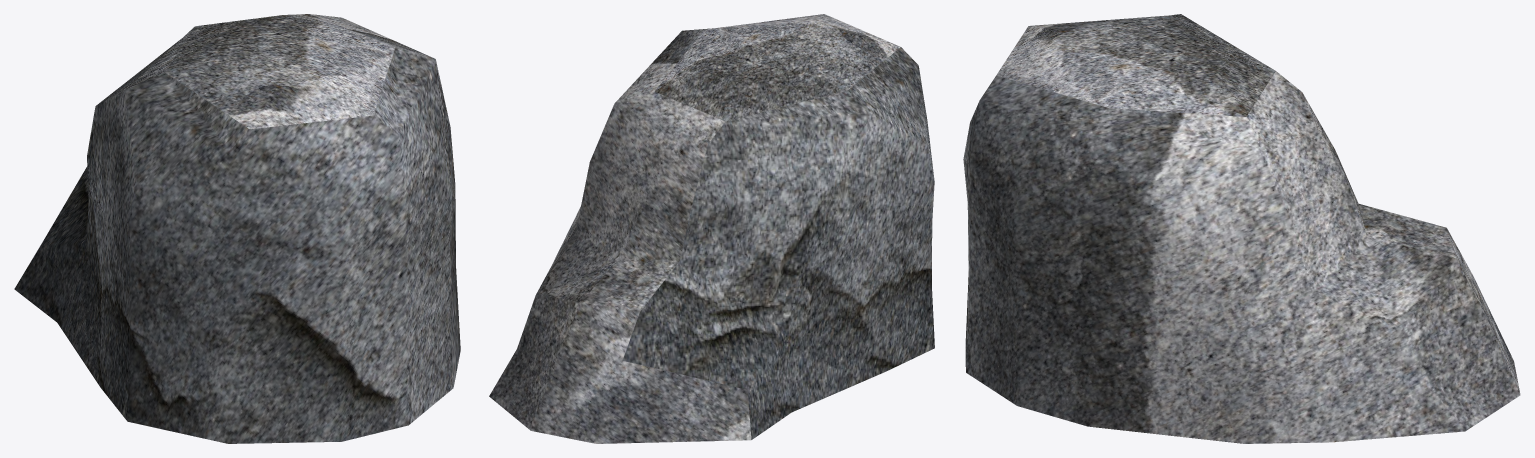
The model's file is Grosse_Roche_01.fbx.
3 views of the same model, side by side, from view 1: azimuth 30°, elevation 25°; view 2: azimuth 150°, elevation 25°; view 3: azimuth 270°, elevation 25° (orthographic). The views are drawn at different scales.
Visible parts, largest first — view 1: Grosse_Roche_High2; view 2: Grosse_Roche_High2; view 3: Grosse_Roche_High2.
Boxes of the visible parts, x1,y1,x2,y2 form: Grosse_Roche_High2: (14, 14, 460, 443); Grosse_Roche_High2: (489, 14, 934, 443); Grosse_Roche_High2: (963, 14, 1520, 443).
Size of the model in its own units: 461 by 392 by 648.
1 material, 1 textured.
